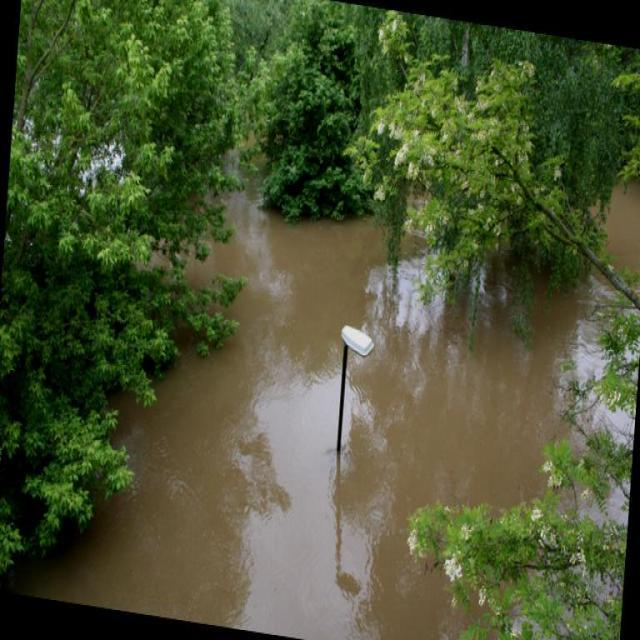flood: (82, 163, 639, 639)
